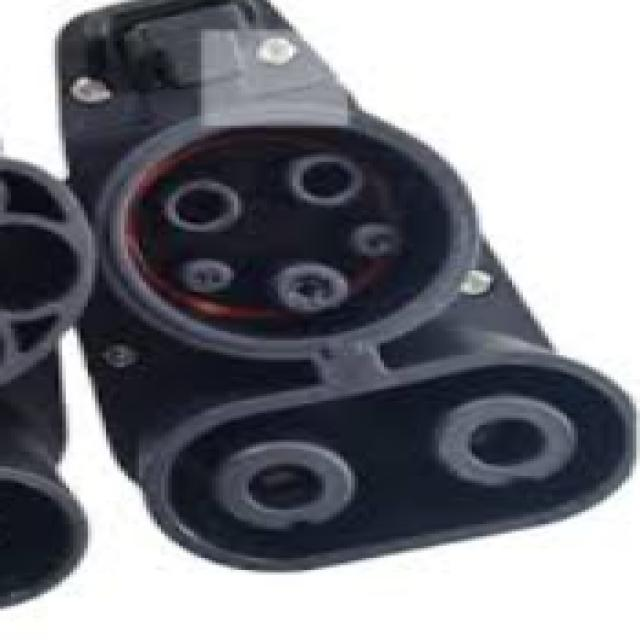CCS1: (18, 110, 622, 619)
